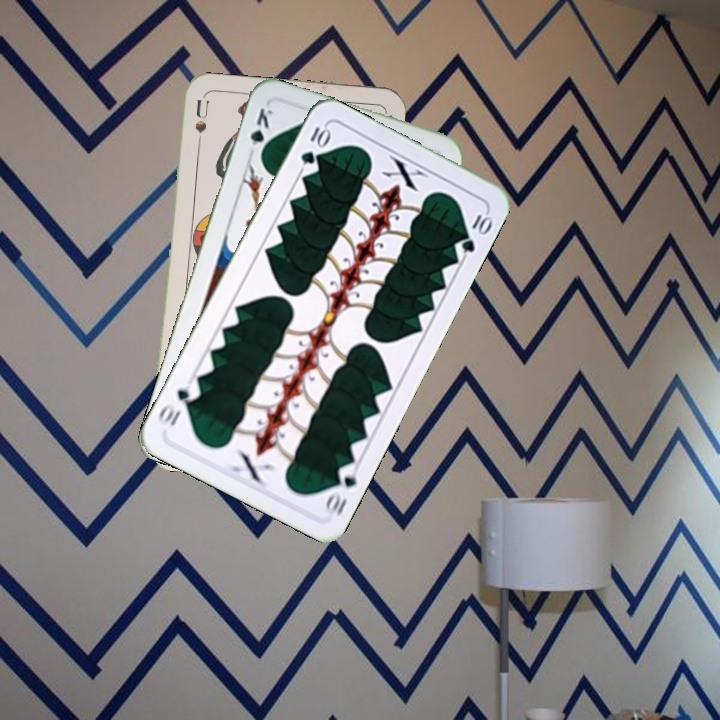G10: (320, 460, 361, 519), (296, 122, 332, 167)
GK: (245, 104, 276, 162)
SU: (191, 96, 211, 156)
